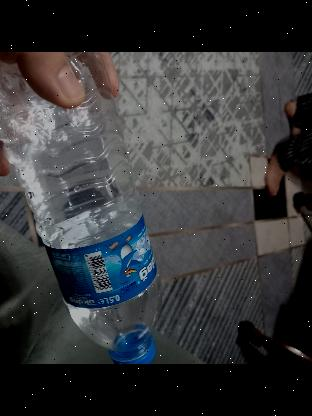Plastic Bottle: (0, 60, 156, 363)
